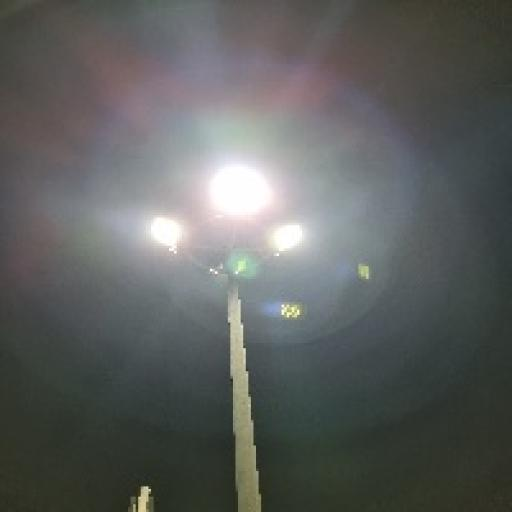Working: (202, 162, 282, 226), (131, 208, 195, 258), (263, 217, 310, 262)
